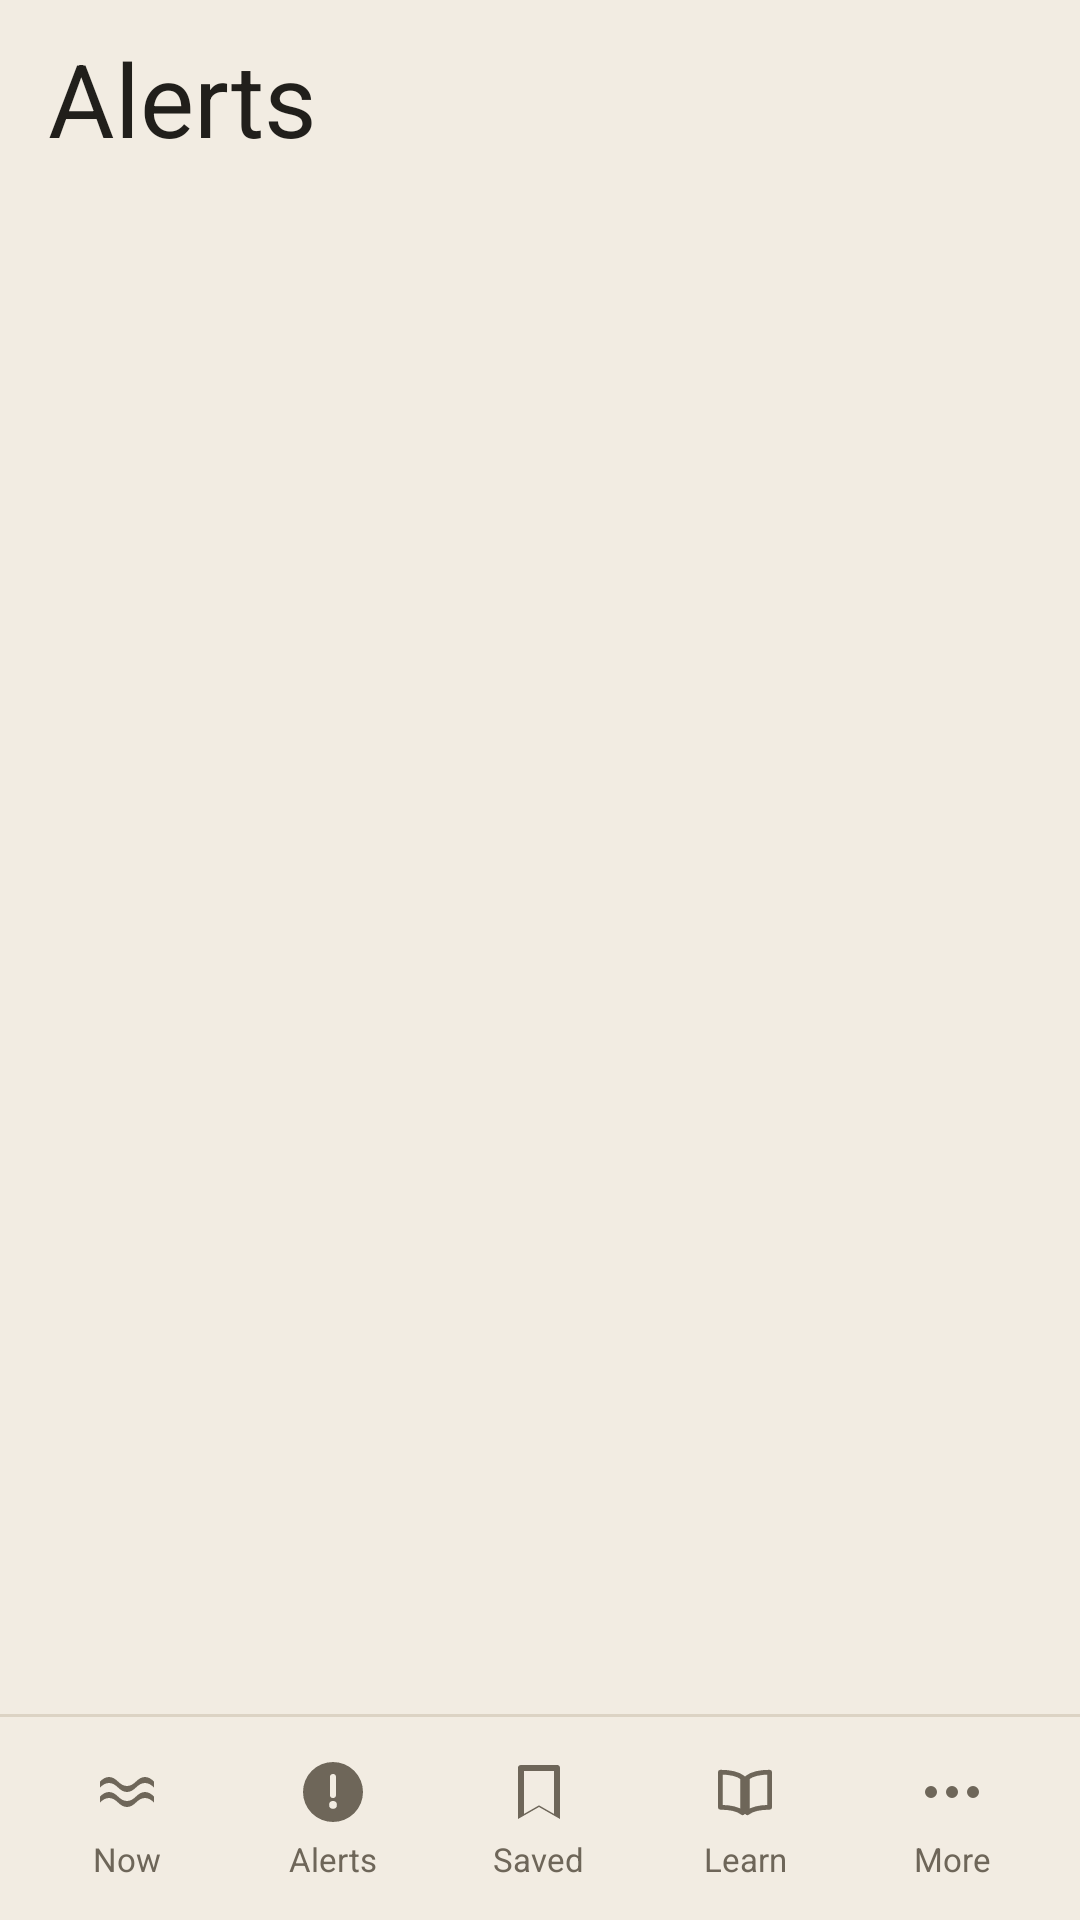

Screen size 1080px x 1920px. Icon name, then its box in pixels as [x1, y1, x2, y2]:
book: [718, 1769, 772, 1816]
bookmark: [518, 1765, 560, 1819]
dots: [925, 1786, 979, 1798]
warning circle: [303, 1762, 363, 1822]
wave: [100, 1777, 154, 1807]
